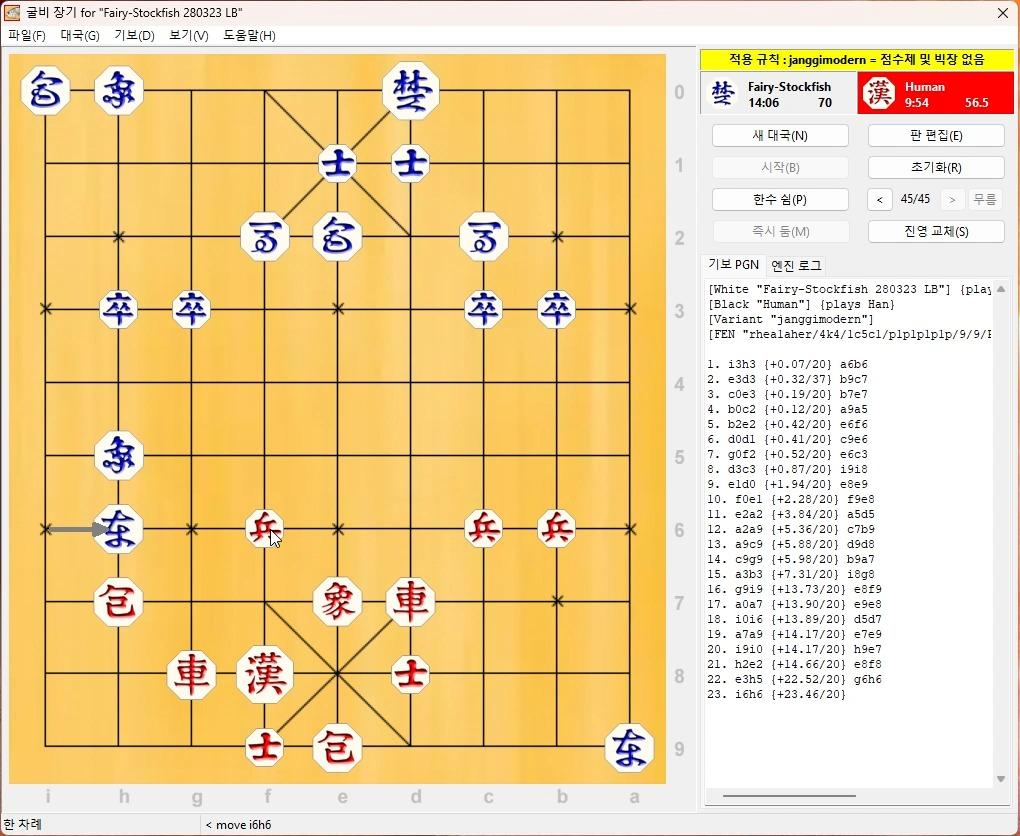cha_green: (606, 723, 655, 772), (95, 508, 145, 554)
cha_red: (389, 579, 438, 624), (166, 654, 215, 699)
jol_green: (539, 290, 578, 326), (171, 292, 210, 328), (466, 293, 504, 329), (98, 293, 136, 328)
jol_red: (245, 509, 286, 550), (536, 507, 576, 548), (461, 509, 502, 548)
ma_green: (242, 215, 291, 261), (459, 214, 507, 260)
po_green: (316, 214, 363, 260), (21, 70, 69, 114)
po_red: (315, 725, 362, 771), (95, 577, 144, 621)
sa_green: (392, 145, 432, 179), (318, 147, 357, 180)
sa_red: (245, 730, 285, 764), (391, 658, 430, 692)
sang_green: (96, 68, 145, 115), (95, 433, 144, 478)
sang_red: (316, 579, 364, 625)
wang_green: (382, 63, 439, 118)
wang_red: (239, 649, 294, 702)
